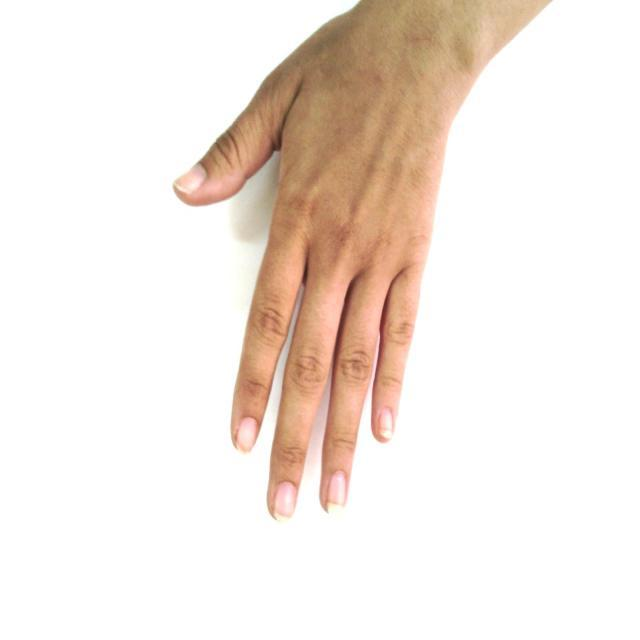Fingernail: (174, 163, 207, 193), (274, 482, 297, 523), (237, 418, 259, 456), (328, 472, 346, 516), (379, 409, 393, 439)
